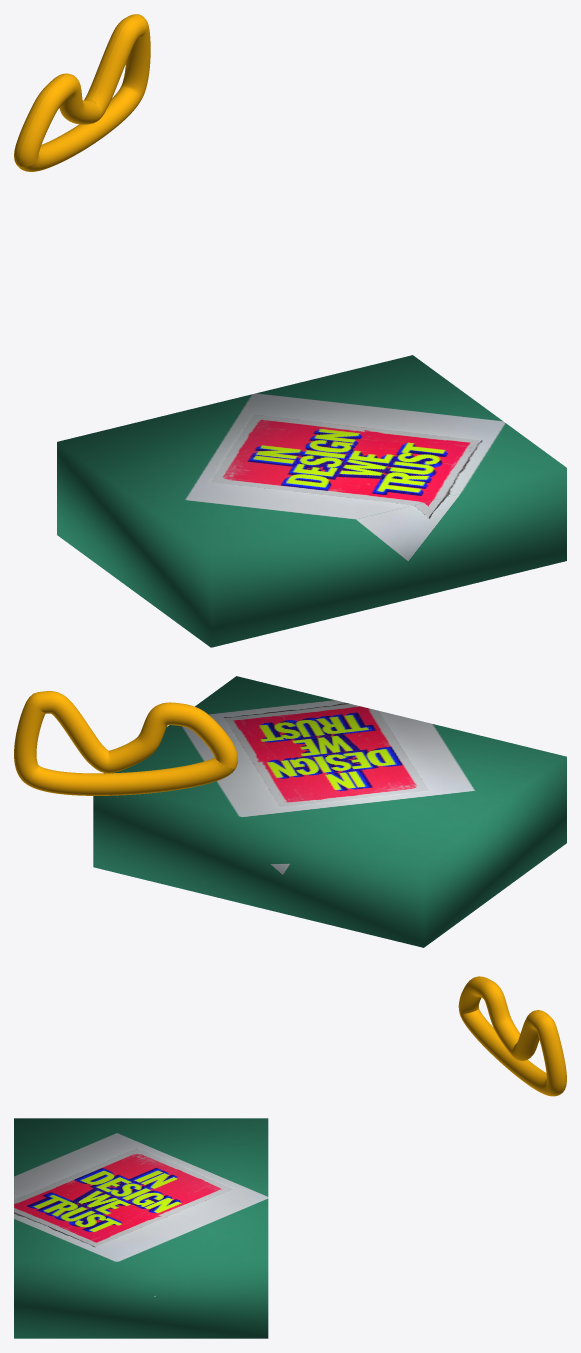
The model's file is horse1.glb.
The picture shows the model from 3 angles, top to bottom: view 1: azimuth 30°, elevation 25°; view 2: azimuth 150°, elevation 25°; view 3: azimuth 270°, elevation 25°; orthographic projection. The views are drawn at different scales.
Visible parts, largest first — view 1: world, Tube; view 2: world, Tube; view 3: world, Tube.
Part boxes in pixels (x1,y1,x2,y2): world: (57, 355, 566, 647); Tube: (14, 14, 150, 171); world: (93, 676, 566, 947); Tube: (14, 691, 237, 795); world: (14, 1118, 268, 1338); Tube: (458, 976, 566, 1096).
Size of the model in its own units: 2.33 by 2.12 by 3.8.
2 materials, 1 textured.
